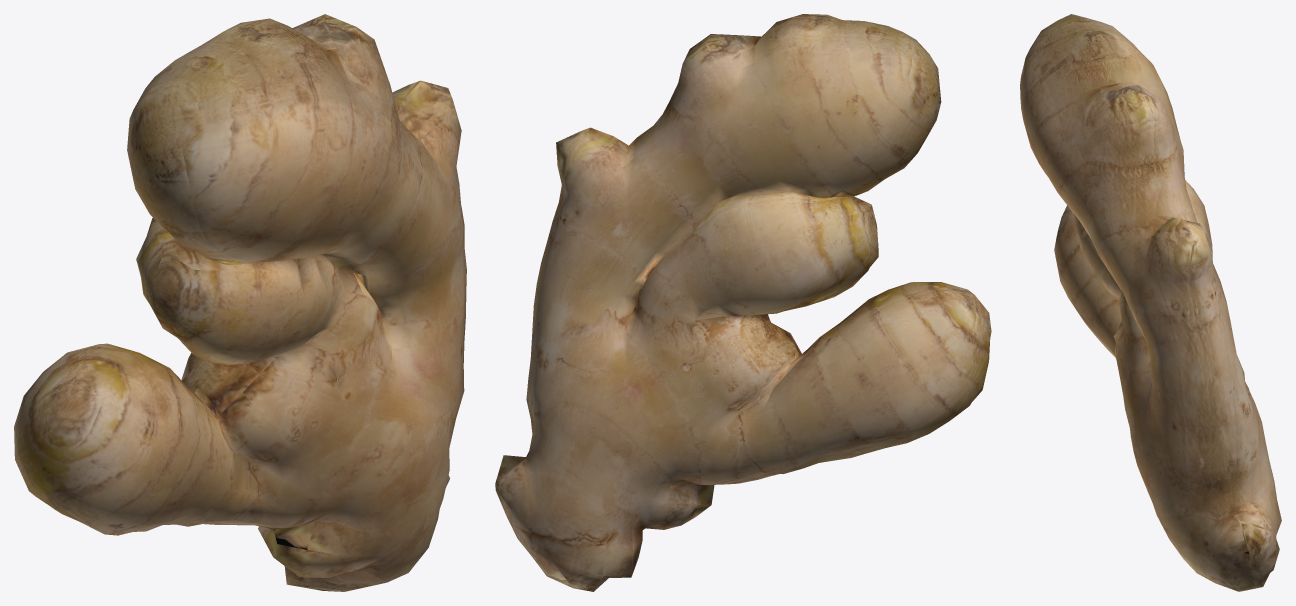
File: ginger_fixed-BtxAjIMb.glb
3 views of the same model, side by side, from view 1: azimuth 30°, elevation 25°; view 2: azimuth 150°, elevation 25°; view 3: azimuth 270°, elevation 25° (orthographic). The views are drawn at different scales.
Visible parts, largest first — view 1: Object_2; view 2: Object_2; view 3: Object_2.
Part boxes in pixels (box(x1,y1,x2,y2)): Object_2: box(14, 14, 466, 591); Object_2: box(495, 14, 991, 591); Object_2: box(1020, 14, 1281, 591).
Bounding box in the file's own units: 1.93 × 2.45 × 1.2.
Materials: 1 (1 with a texture image).
